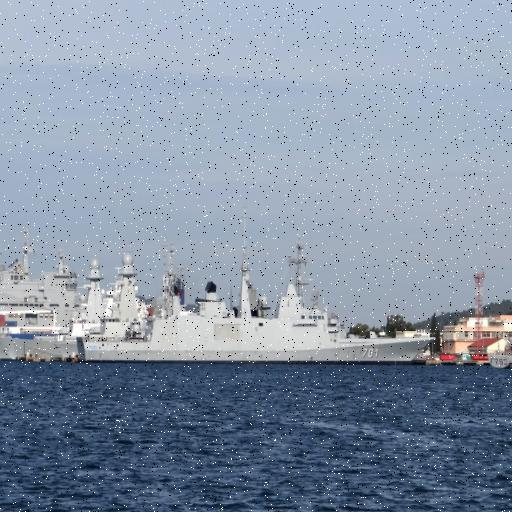Fragata: (74, 240, 438, 368)
